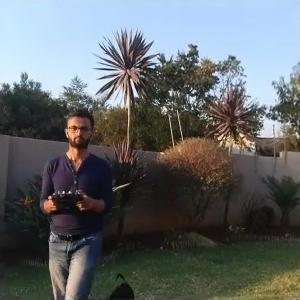follow: (34, 106, 115, 298)
null: (104, 268, 137, 298)
